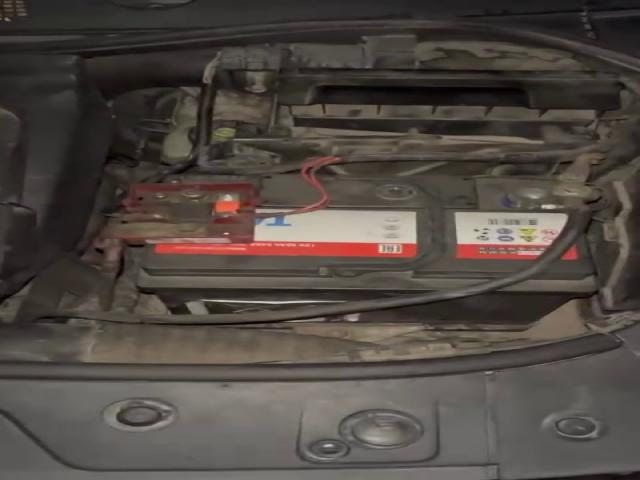accumulator: (96, 170, 594, 332)
